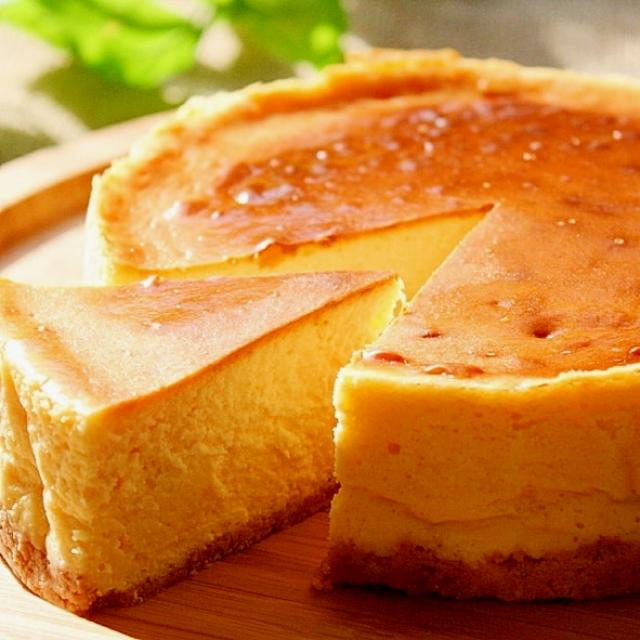cheesecake: (0, 42, 637, 630)
